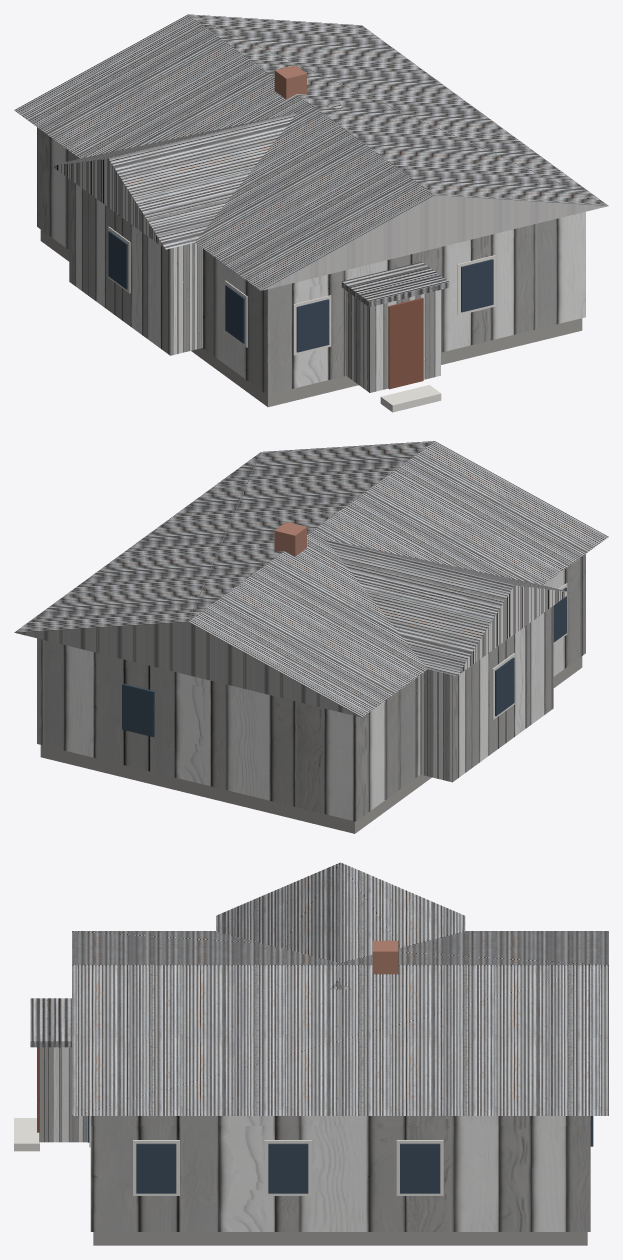
Rendered from asset.glb.
3 renders of one model, top to bottom at view 1: azimuth 30°, elevation 25°; view 2: azimuth 150°, elevation 25°; view 3: azimuth 270°, elevation 25°, orthographic. The views are drawn at different scales.
Visible parts, largest first — view 1: roof, body, wing_body, roof_wing, gable_end, porch, foundation, door, wing_gable, porch_cap, win, win.001 (+6 smaller); view 2: roof, body, wing_body, roof_wing, gable_end, foundation, wing_gable, win.007, win.003, chimney, win.002; view 3: roof, body, roof_wing, foundation, porch, porch_cap, win.004, win.005, win.006, chimney, step, win_trim.005 (+2 smaller).
Part boxes in pixels (x1,y1,x2,y2): roof: [14, 14, 608, 290]; body: [37, 127, 585, 394]; wing_body: [69, 179, 202, 355]; roof_wing: [52, 102, 343, 249]; gable_end: [262, 195, 608, 290]; porch: [346, 290, 440, 392]; foundation: [40, 230, 582, 407]; door: [388, 297, 423, 389]; wing_gable: [51, 158, 165, 249]; porch_cap: [341, 262, 449, 307]; win: [296, 299, 329, 352]; win.001: [461, 259, 493, 312]; roof: [14, 441, 608, 717]; body: [37, 554, 585, 821]; wing_body: [420, 606, 553, 782]; roof_wing: [325, 539, 570, 675]; gable_end: [15, 621, 361, 717]; foundation: [40, 656, 582, 833]; wing_gable: [457, 585, 571, 675]; win.007: [122, 683, 154, 737]; win.003: [495, 657, 514, 716]; chimney: [274, 522, 306, 556]; win.002: [553, 587, 566, 642]; roof: [72, 931, 608, 1115]; body: [90, 1116, 590, 1231]; roof_wing: [216, 862, 465, 988]; foundation: [93, 1232, 587, 1245]; porch: [39, 1047, 87, 1142]; porch_cap: [30, 998, 71, 1047]; win.004: [136, 1143, 176, 1193]; win.005: [268, 1143, 308, 1193]; win.006: [400, 1143, 440, 1193]; chimney: [372, 940, 398, 974]; step: [14, 1118, 39, 1151]; win_trim.005: [264, 1140, 311, 1195].
Size of the model in its own units: 10.05 by 5.06 by 12.63.
Materials: 7 (2 with a texture image).
